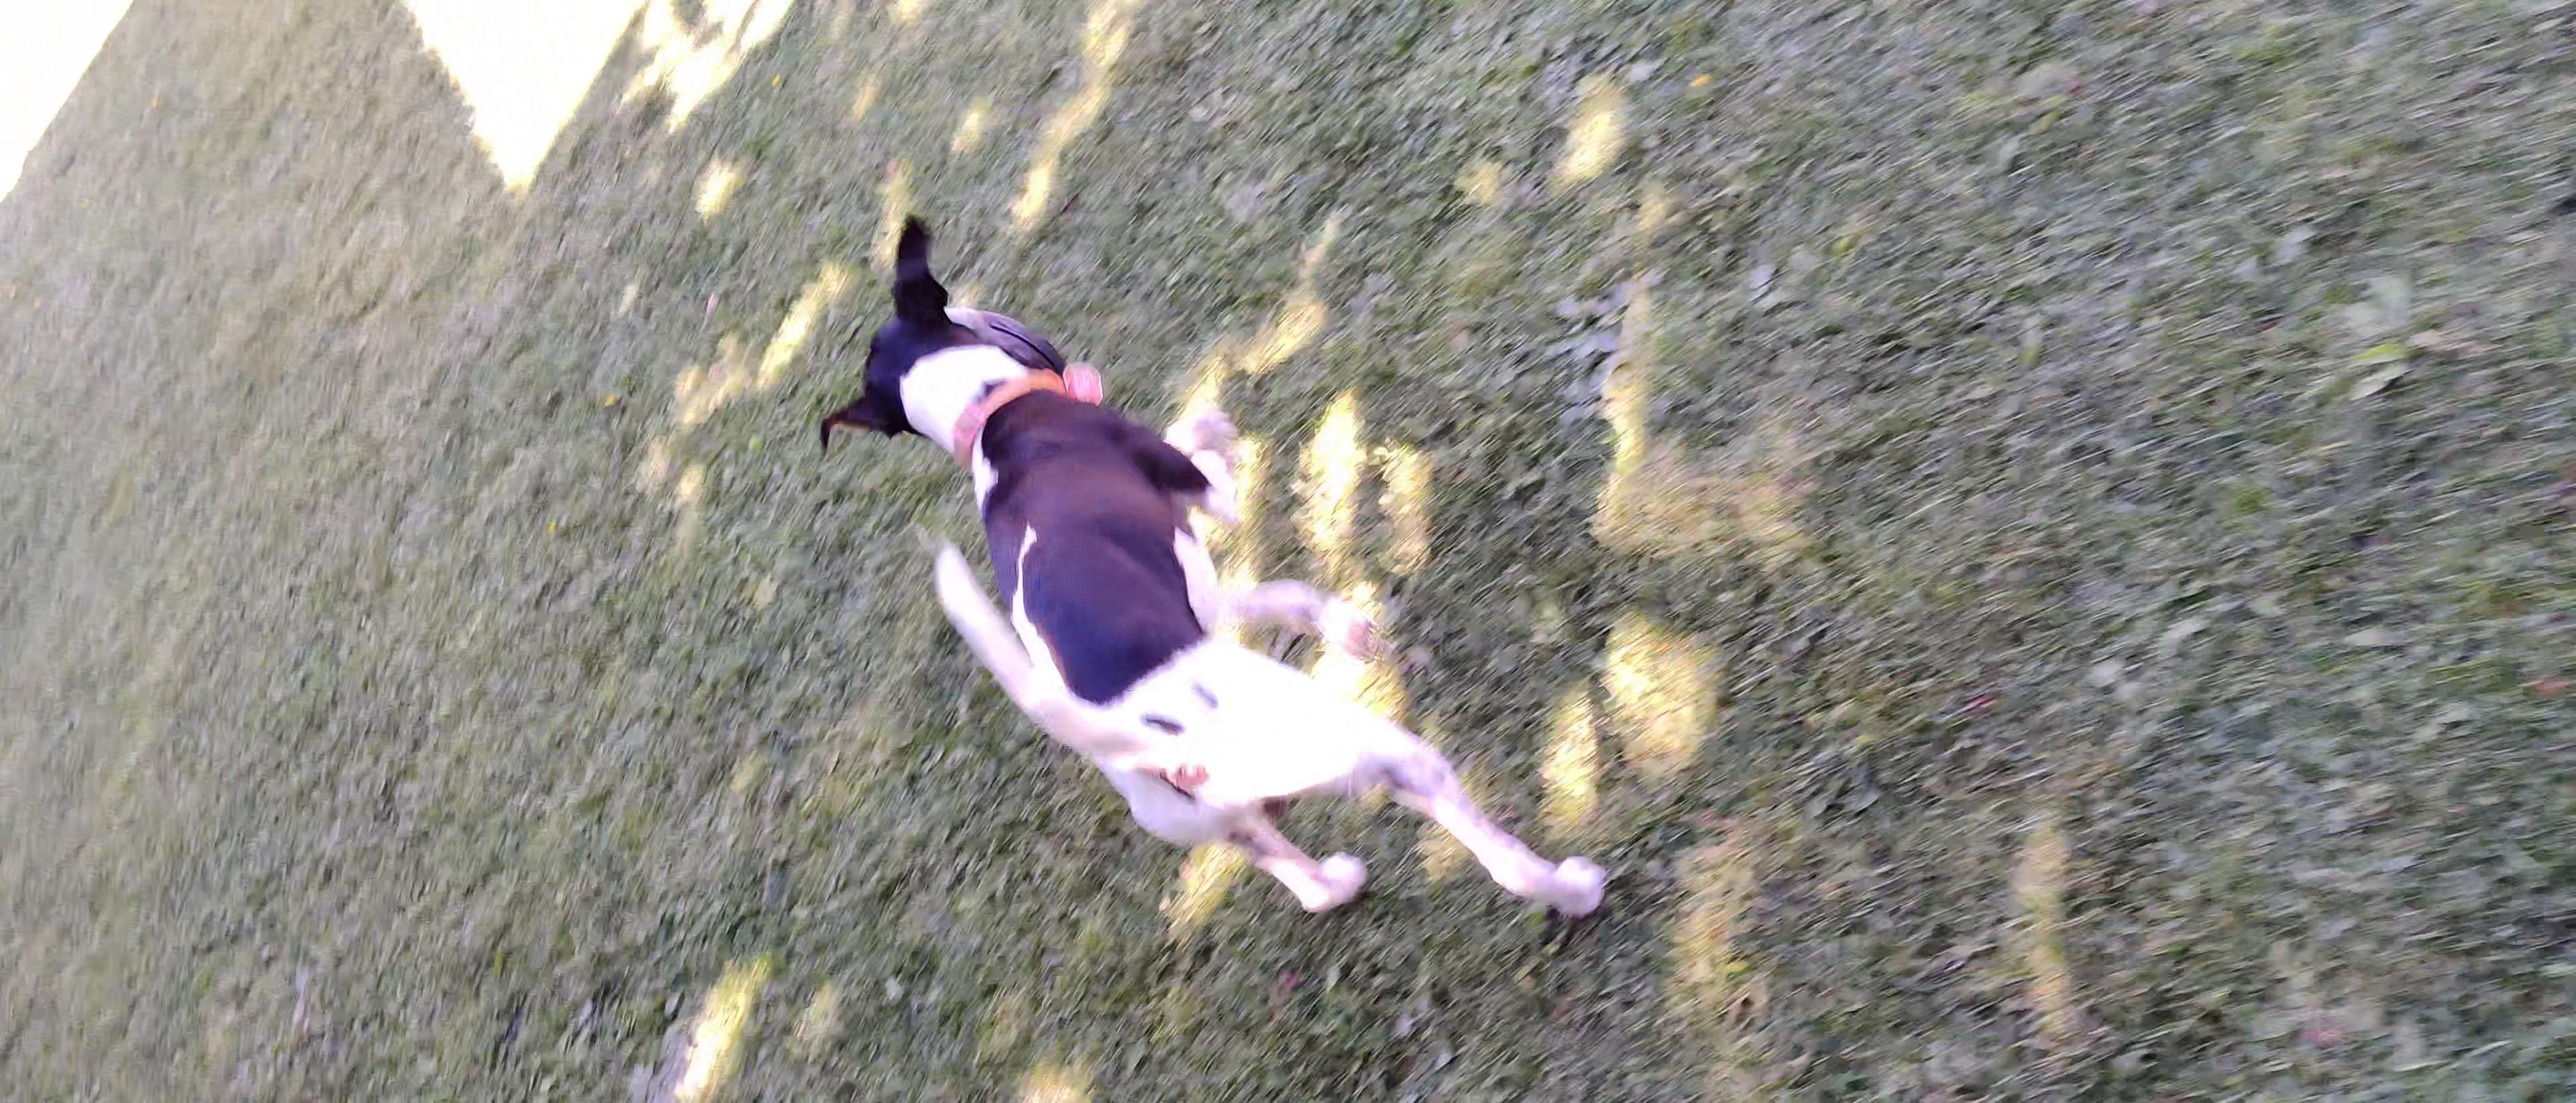Dog: (787, 205, 1618, 930)
